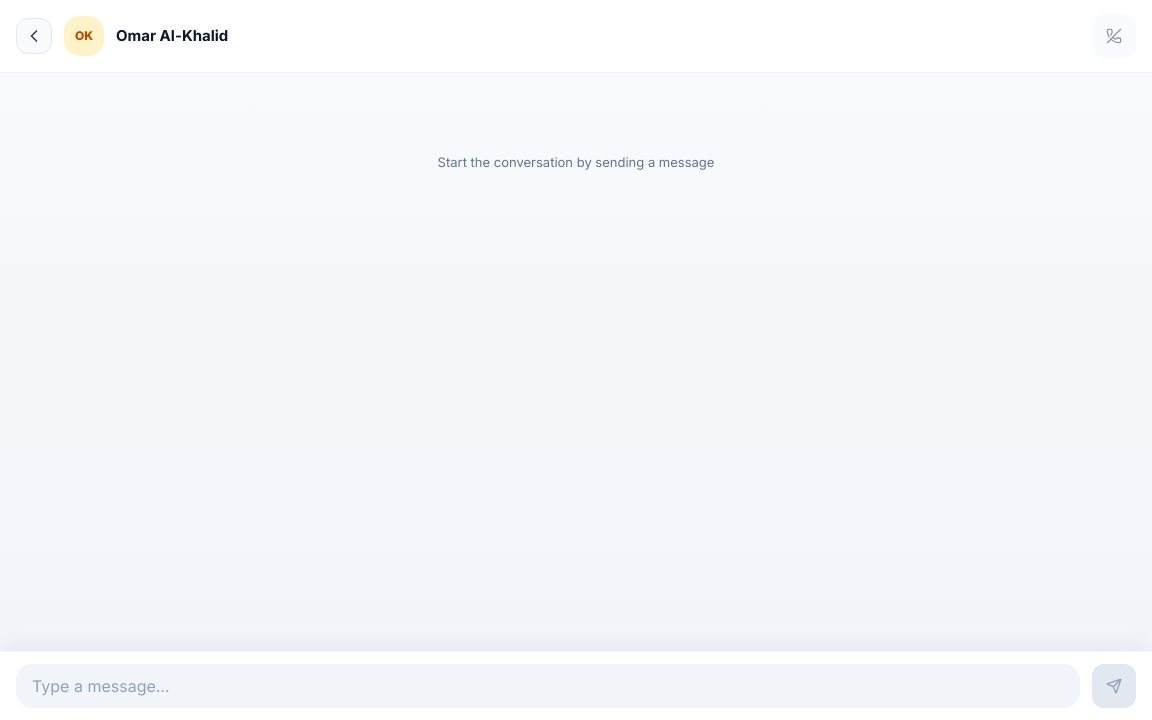
Scenario: ChatScreen — R12 send recovery and replies › sending the failed message again reuses its key, so it is stored once
The image size is (1152, 720).
Expected: the text "Start the conversation by sending a message" is shown, left=438, top=153, right=714, bottom=172
Type "Is ten good?" into the text box with test id "chat-input" at (548, 686), box left=32, top=674, right=1064, bottom=698
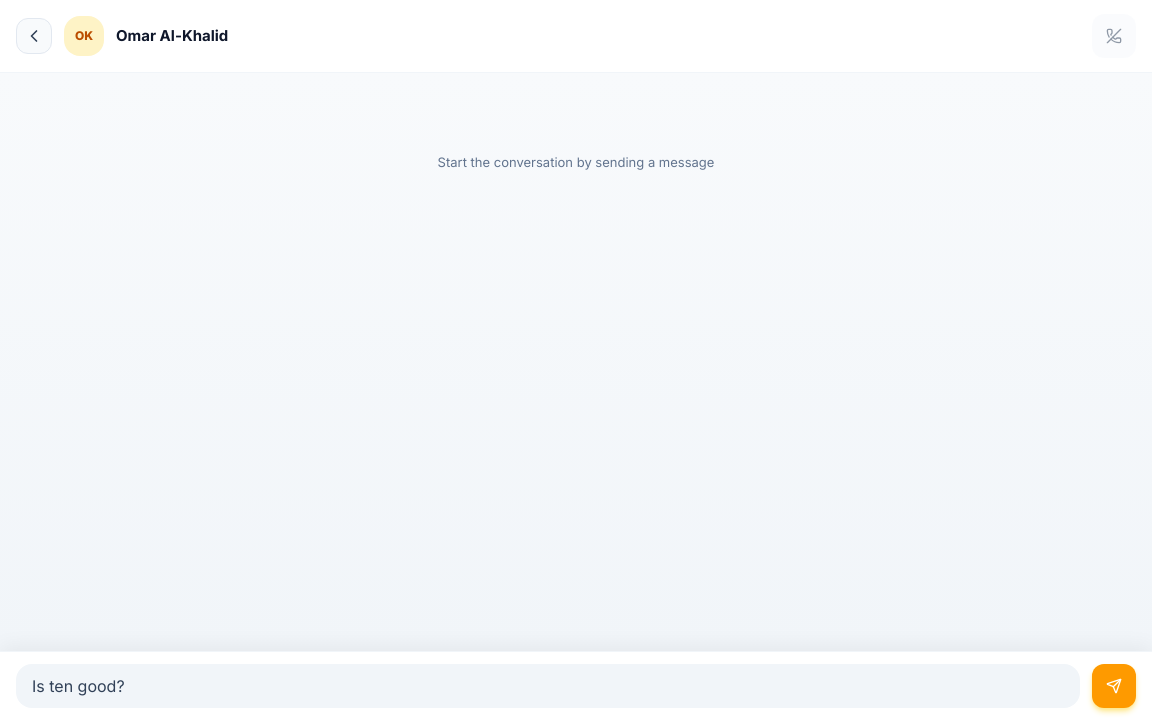
Click the button with test id "chat-send" at (1114, 686), box left=1092, top=664, right=1136, bottom=708
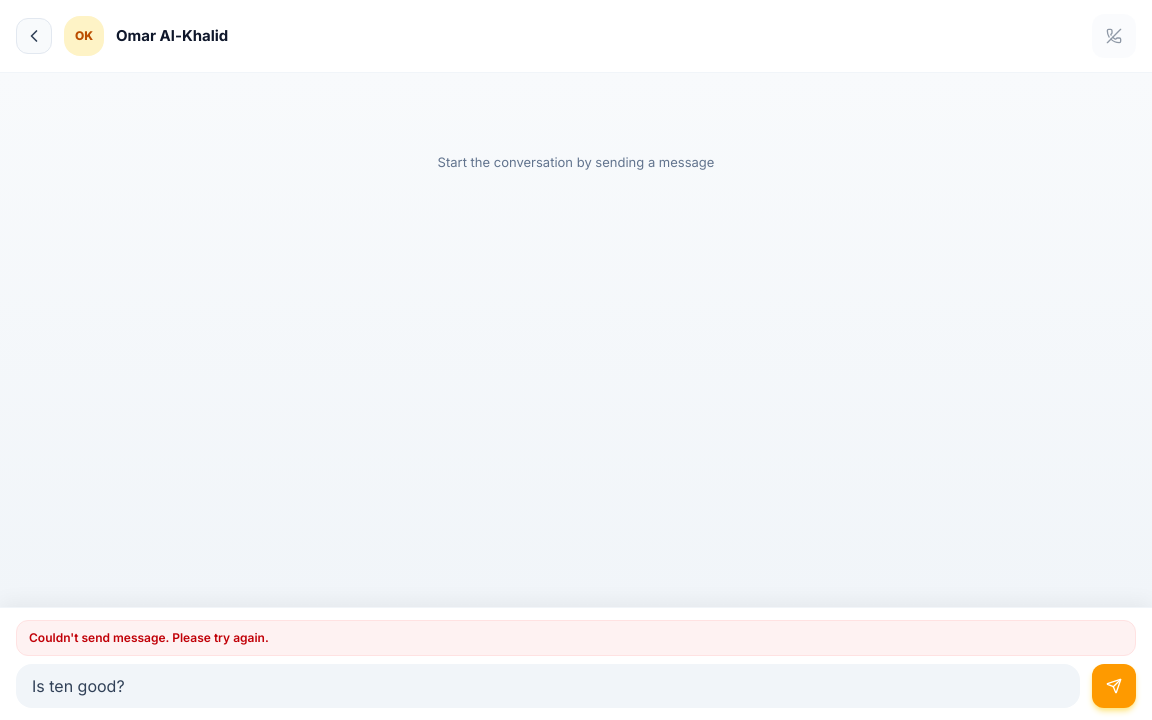
Expected: the message "Couldn't send message. Please try again." is shown, left=16, top=620, right=1136, bottom=656
Click the button with test id "chat-send" at (1114, 686), box left=1092, top=664, right=1136, bottom=708
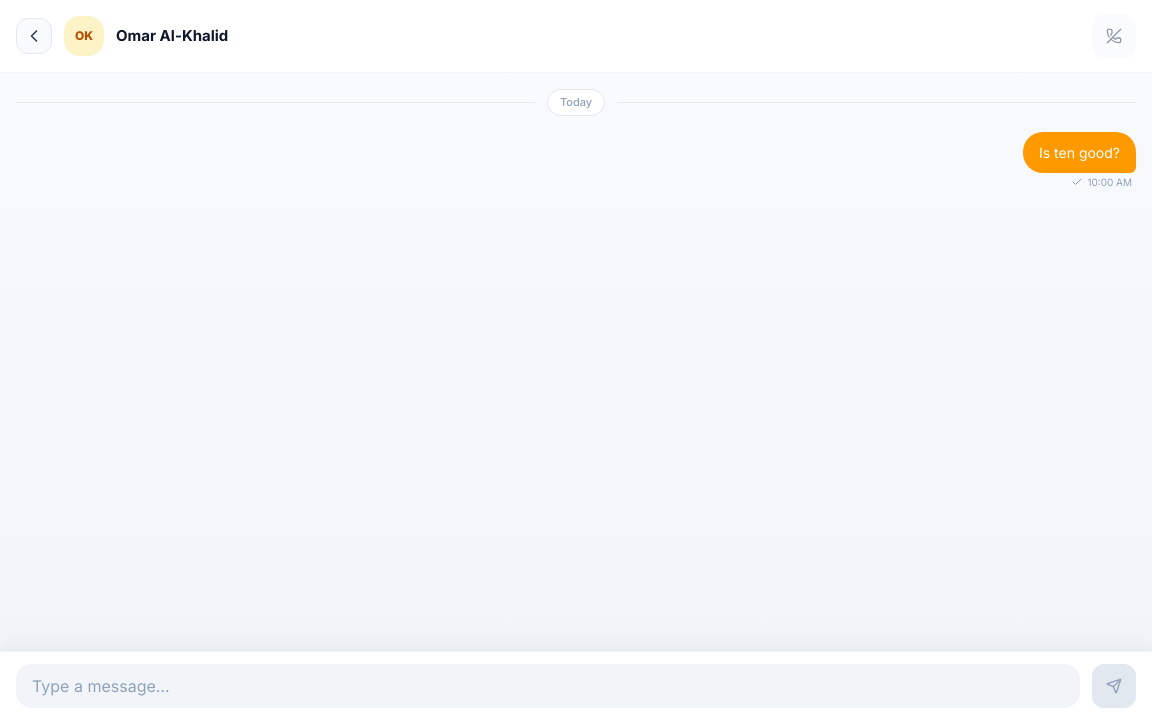
Expected: the text "Is ten good?" is shown once, left=1023, top=132, right=1136, bottom=172
